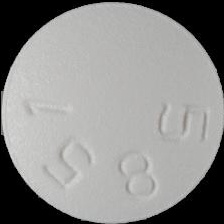55700-013: (0, 0, 224, 224)
